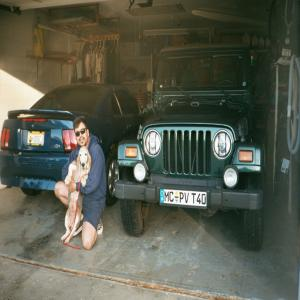Vehicle-registration-plate: (161, 190, 207, 207), (28, 132, 45, 147)
